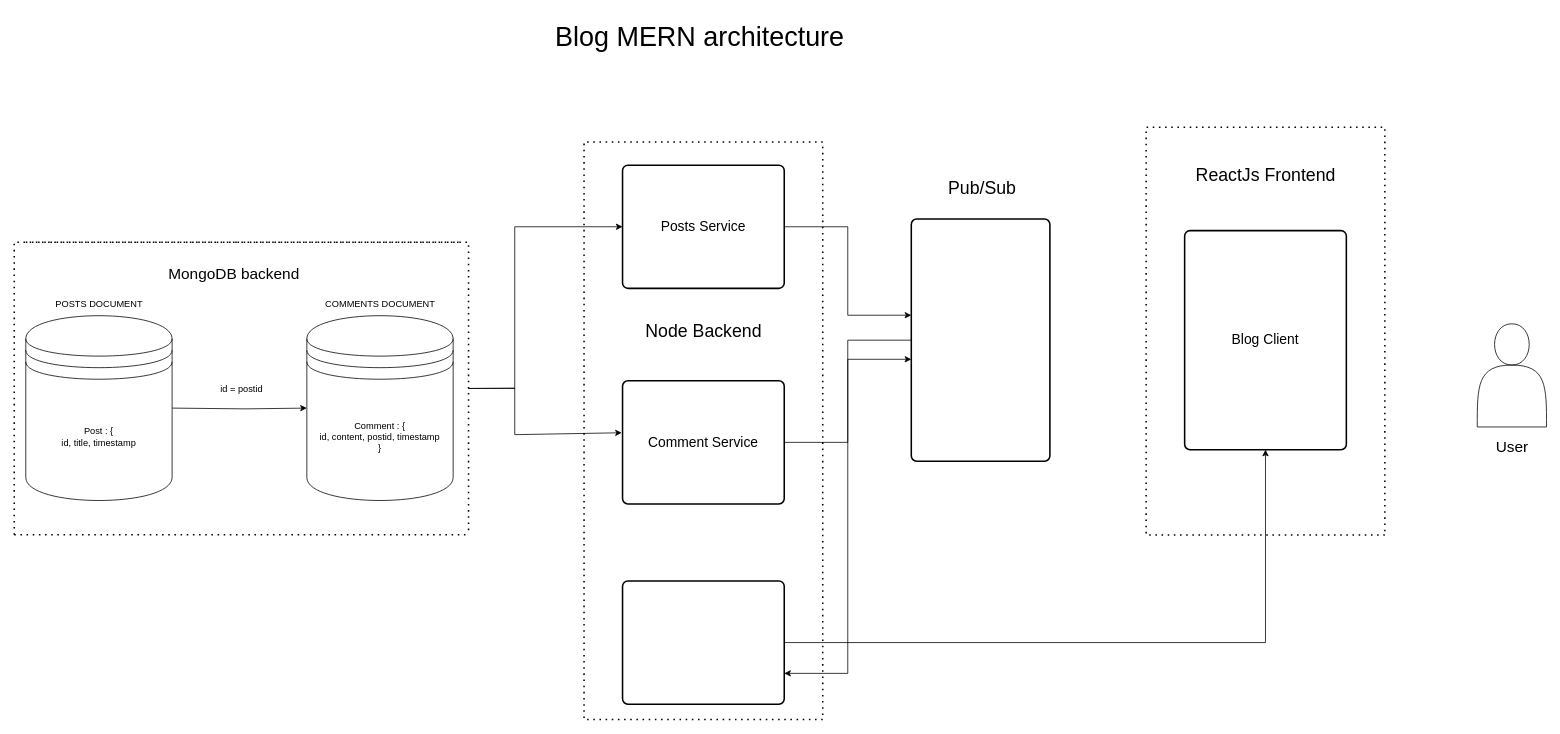
Some shapes in this 1560 by 734 pixel diagram are drawn without their labels. The centre of each missing label's shape, as x and y in pixels:
"Event Broker" belongs at [980,340].
"Query Service" belongs at [703,642].
